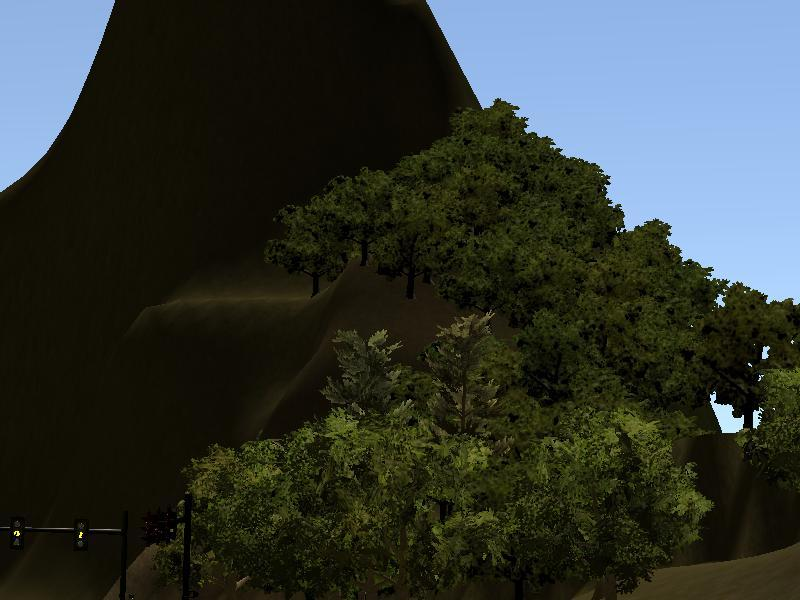Yellow: (73, 517, 89, 554), (10, 517, 25, 551)
